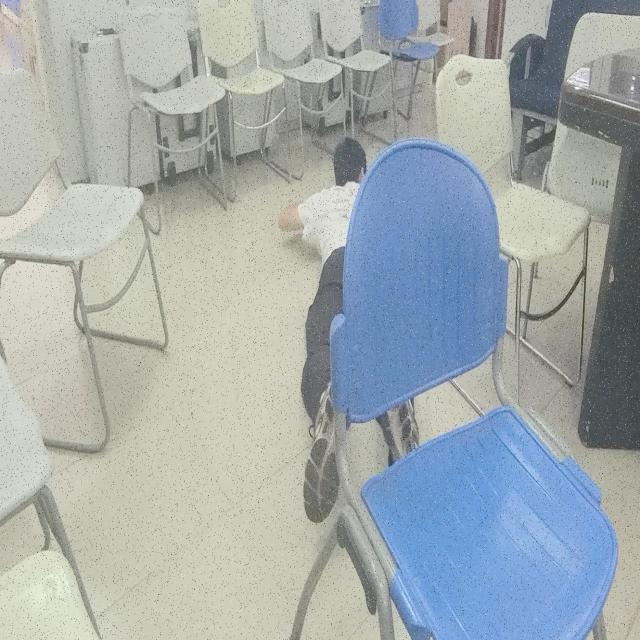fall: (276, 140, 422, 524)
